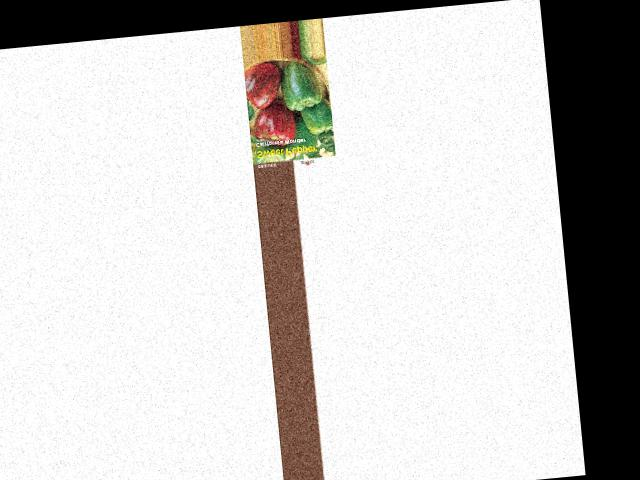bell_pepper: (302, 91, 335, 138)
